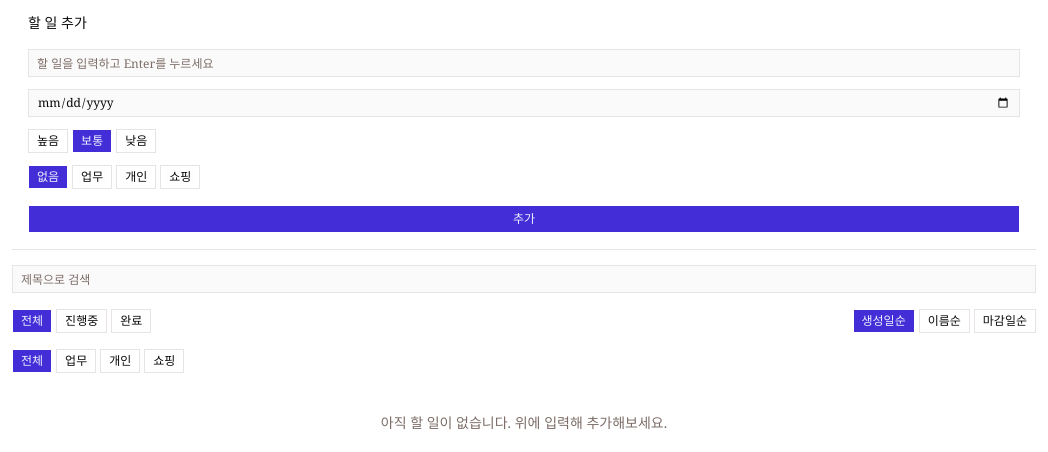
Test: TodoList 검증 체크리스트 › 4. 삭제 버튼 클릭 → 해당 항목 제거
Step 1. Type "장보기" into the field named "새 할 일" → (524, 63), box [28, 49, 1020, 77]
Then press Enter
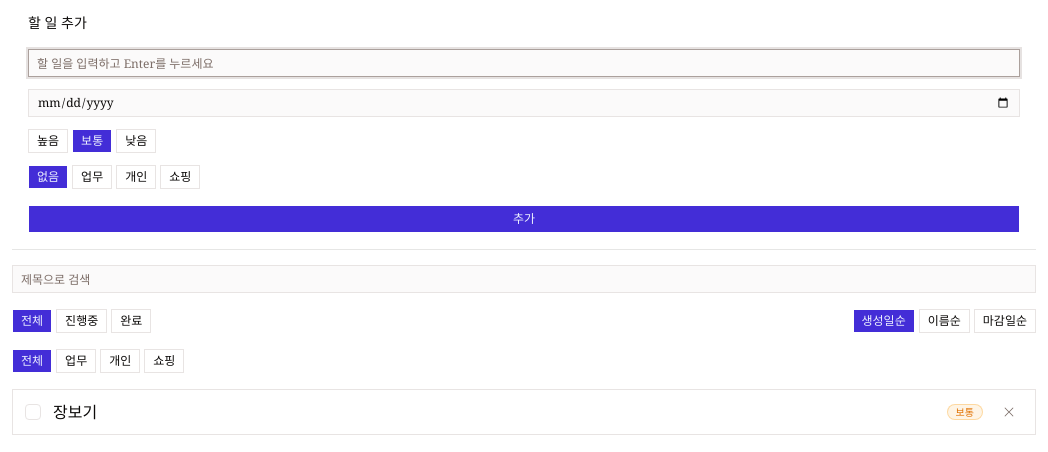
Now the text "장보기" is shown, box [53, 401, 97, 423]
Step 2. Click the button named "삭제" → (1009, 412), box [995, 398, 1023, 426]
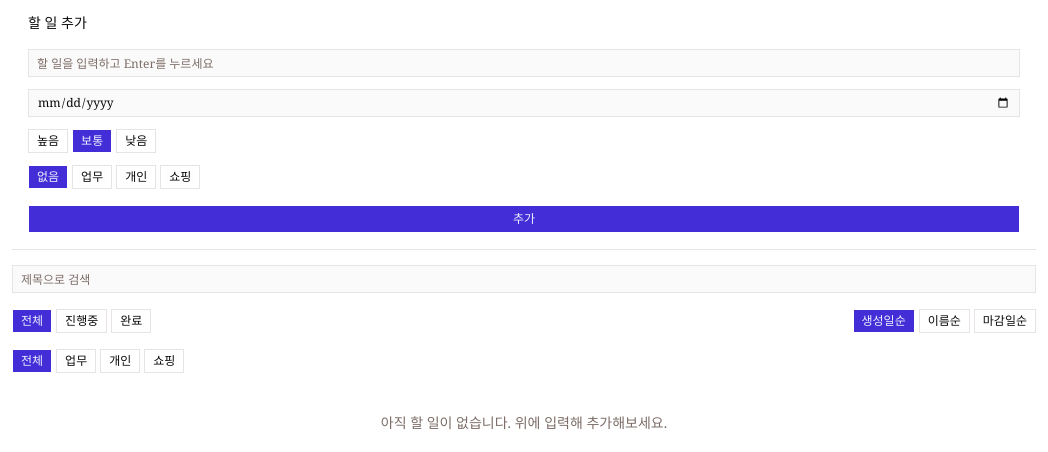
Now the text "장보기" is gone
Now the text "아직 할 일이 없습니다. 위에 입력해 추가해보세요." is shown, box [381, 413, 667, 432]
